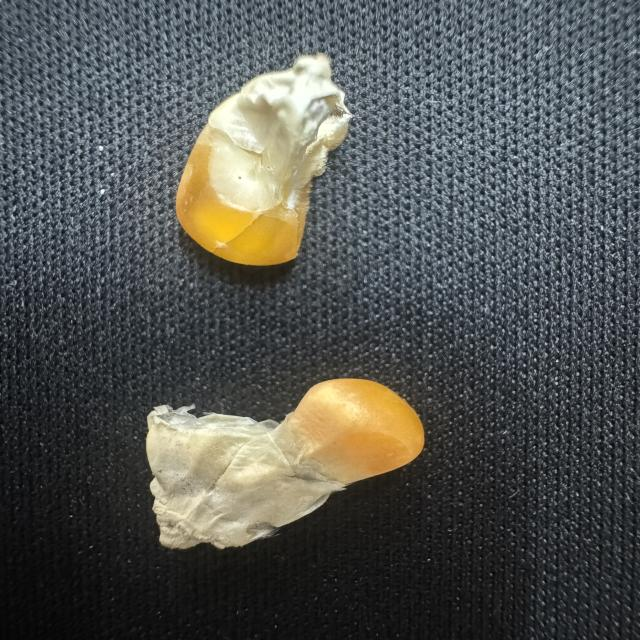Bad-Seed: (132, 367, 426, 561), (166, 46, 365, 272)
